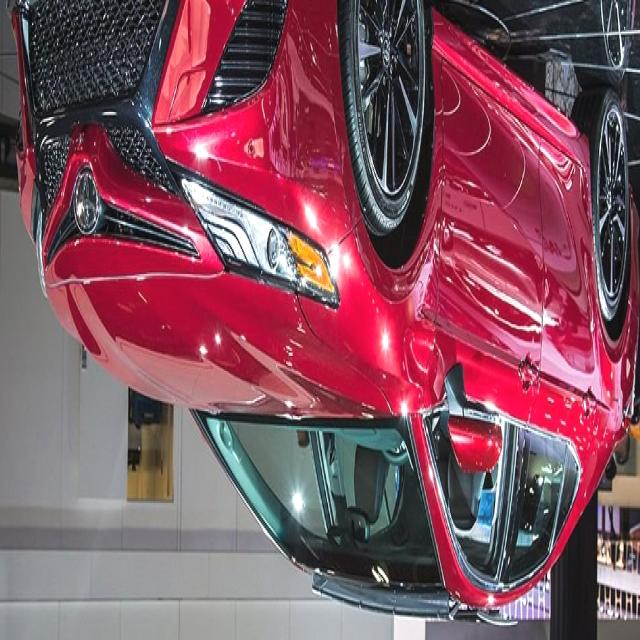red: (25, 0, 640, 623)
